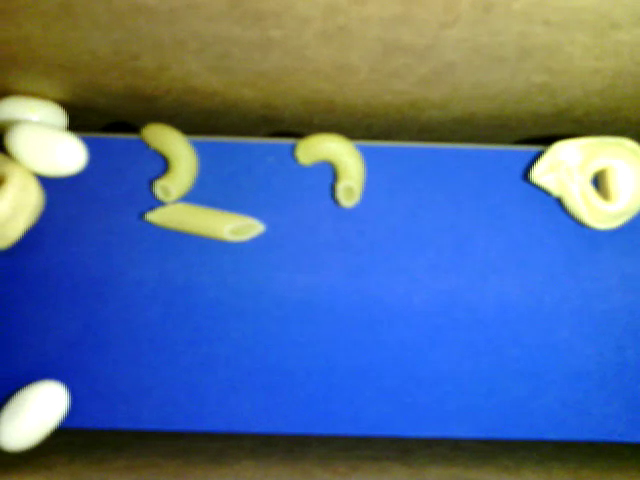elbow: (294, 131, 366, 209), (140, 122, 198, 202)
penne: (140, 201, 266, 242)
tortellini: (528, 136, 639, 230), (1, 151, 48, 248)
